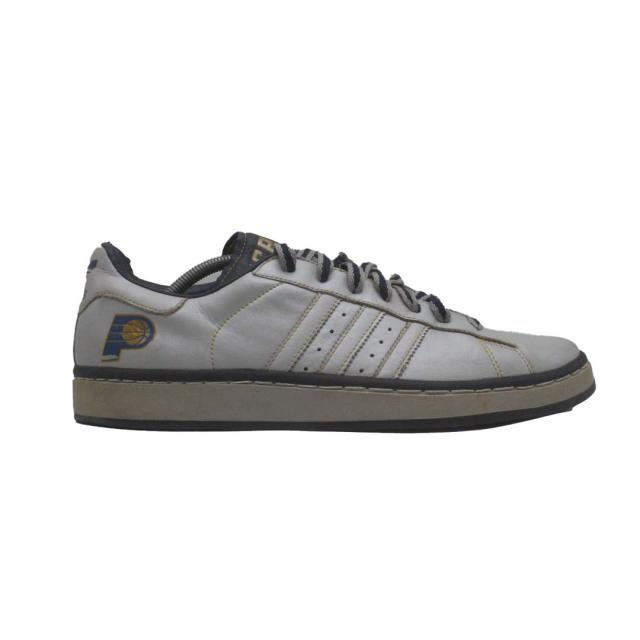heel: (72, 246, 150, 368)
midsole: (72, 352, 599, 430)
uppersole: (147, 233, 577, 379)
